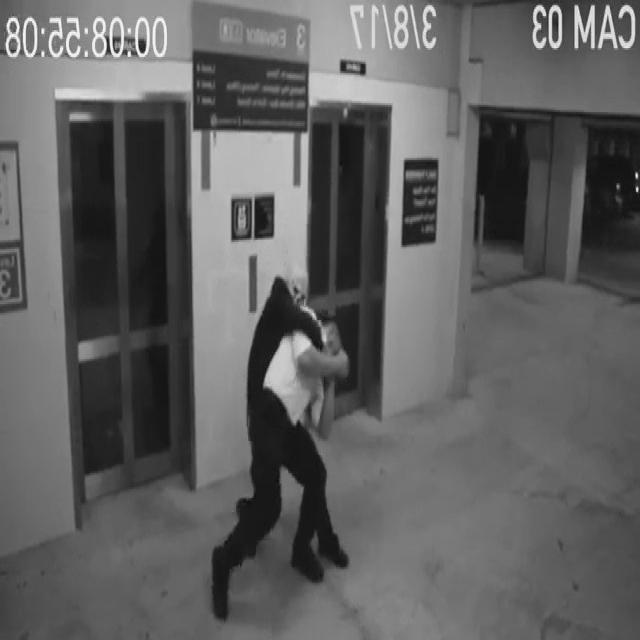fight: (208, 270, 350, 623)
